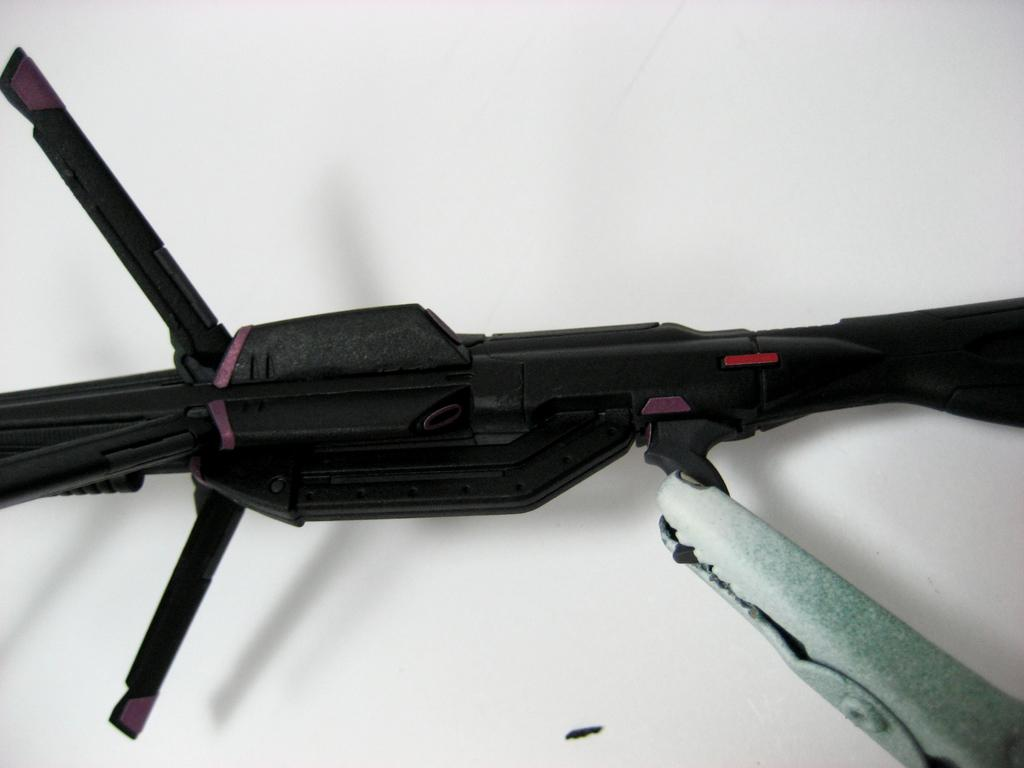Shotgun: (0, 47, 1024, 768)
